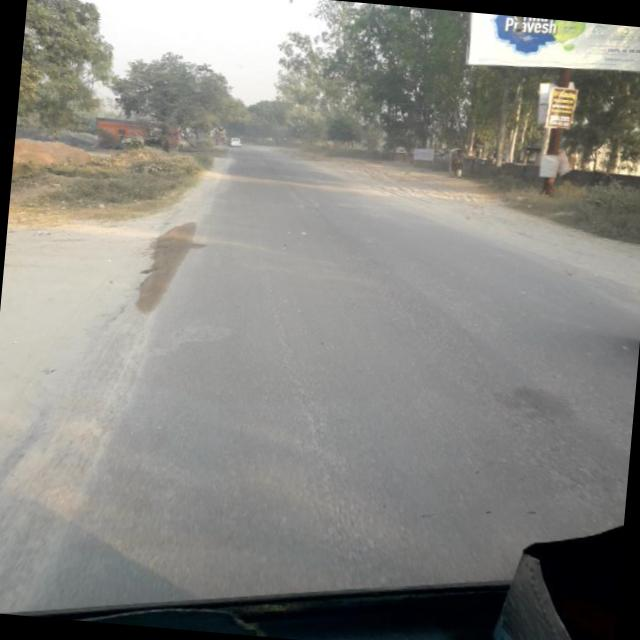pothole: (232, 242, 390, 536)
